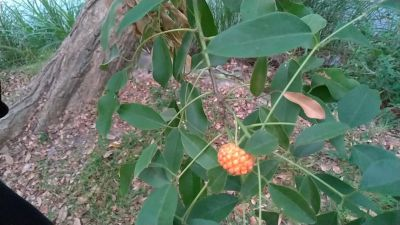eggs: (217, 142, 254, 176)
